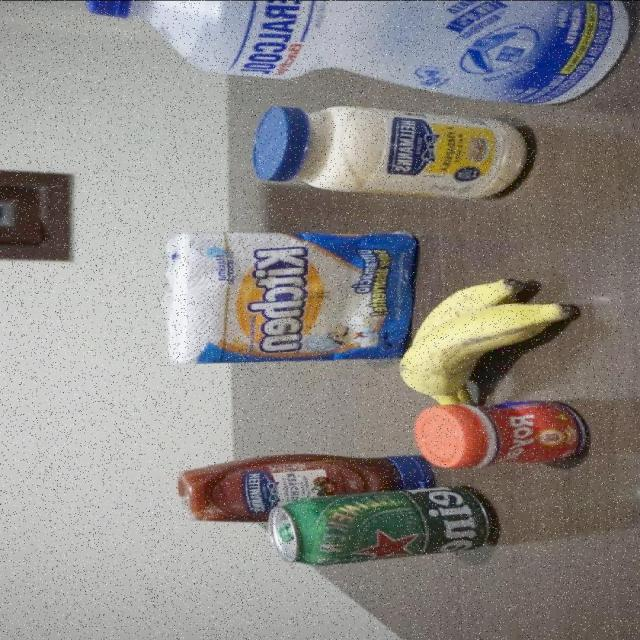AlcoholBottle: (85, 0, 621, 105)
Banana: (397, 270, 591, 400)
BeerCan: (268, 494, 483, 564)
Ketchup: (171, 453, 406, 493)
Mayonnaise: (250, 109, 538, 202)
Napkin: (164, 229, 399, 361)
Yeast: (414, 403, 588, 470)
